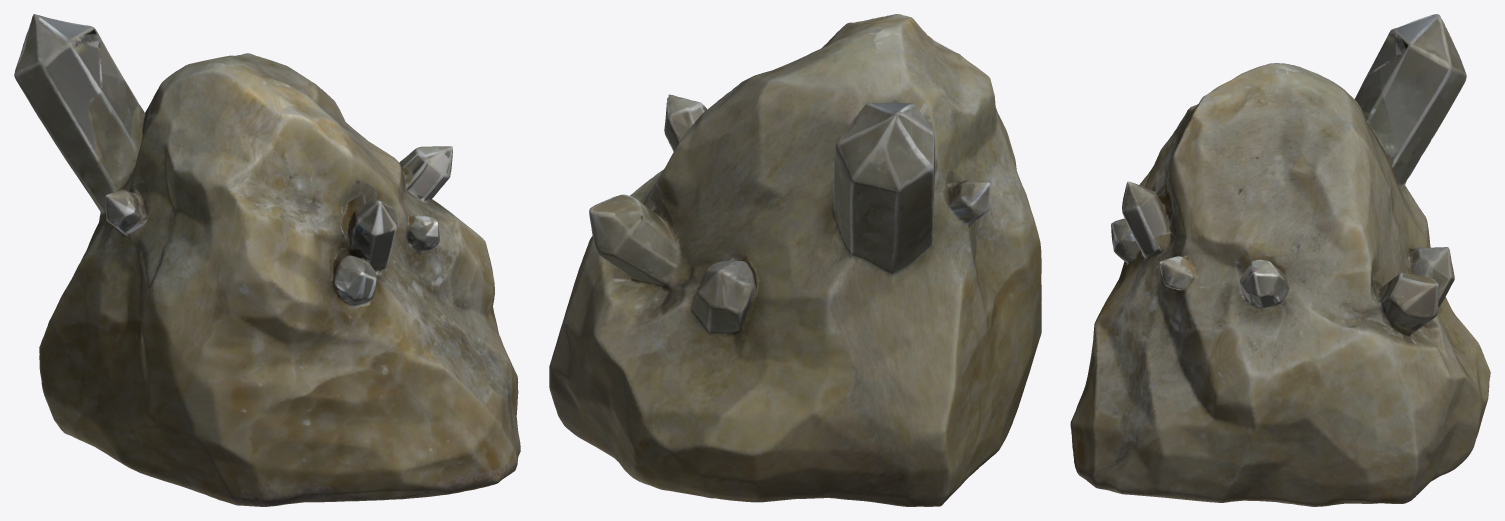
File: Metalnode.glb
3 renders of one model, left to right at view 1: azimuth 30°, elevation 25°; view 2: azimuth 150°, elevation 25°; view 3: azimuth 270°, elevation 25°, orthographic. The views are drawn at different scales.
Visible parts, largest first — view 1: Mesh1.0; view 2: Mesh1.0; view 3: Mesh1.0.
Part boxes in pixels (<box>): Mesh1.0: <box>14,14,520,506</box>; Mesh1.0: <box>549,14,1041,506</box>; Mesh1.0: <box>1070,14,1490,506</box>.
Size of the model in its own units: 1.88 by 1.86 by 2.
Materials: 1 (1 with a texture image).
